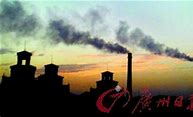smoke: (44, 21, 128, 54), (132, 26, 193, 62)
